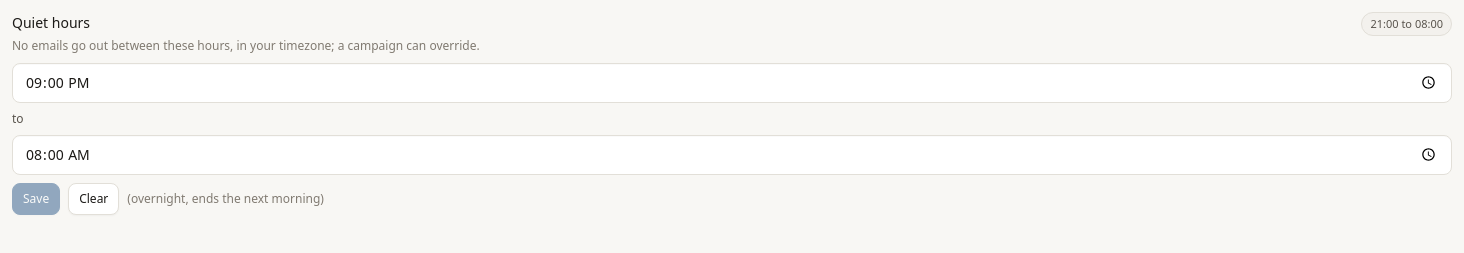
Test: QuietHoursField clear › a server refusal on Clear is shown and the pickers keep their values
This screenshot has width=1464, height=253.
Click the button "Clear" at point(94, 198), box [68, 182, 119, 214]
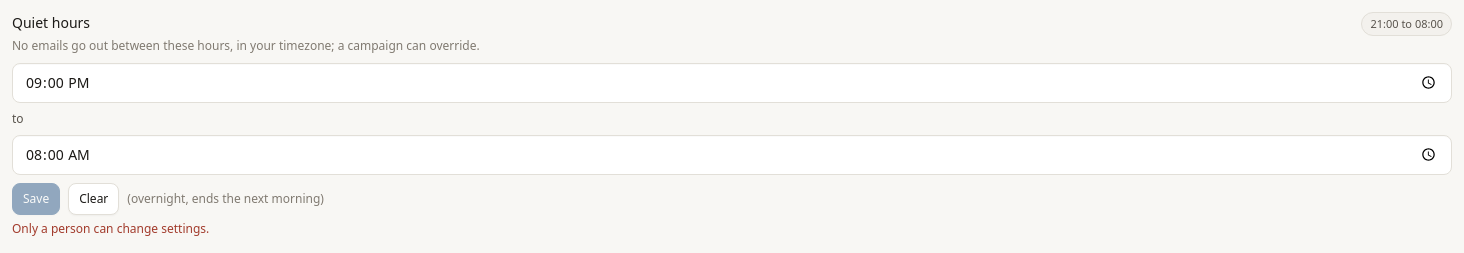
Check: the time field named "Quiet hours start" holds "21:00", box [12, 62, 1452, 102]
Check: the text "Only a person can change settings." is shown, box [12, 220, 209, 236]
